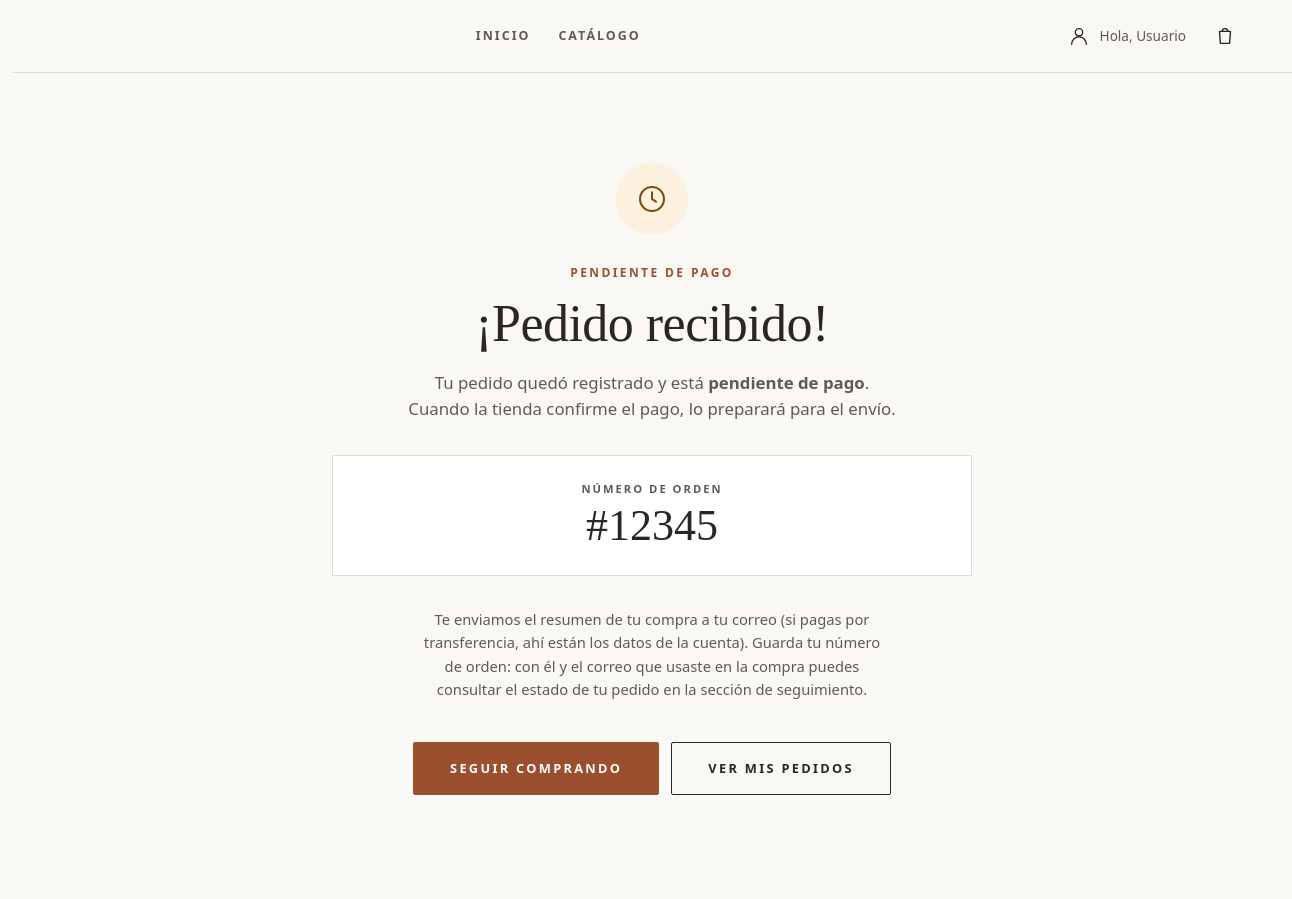
Test case: PedidoRecibido › debe llevar al usuario autenticado a sus pedidos
Step 1. Click the button "Ver mis pedidos" → (781, 768), box [671, 742, 891, 795]
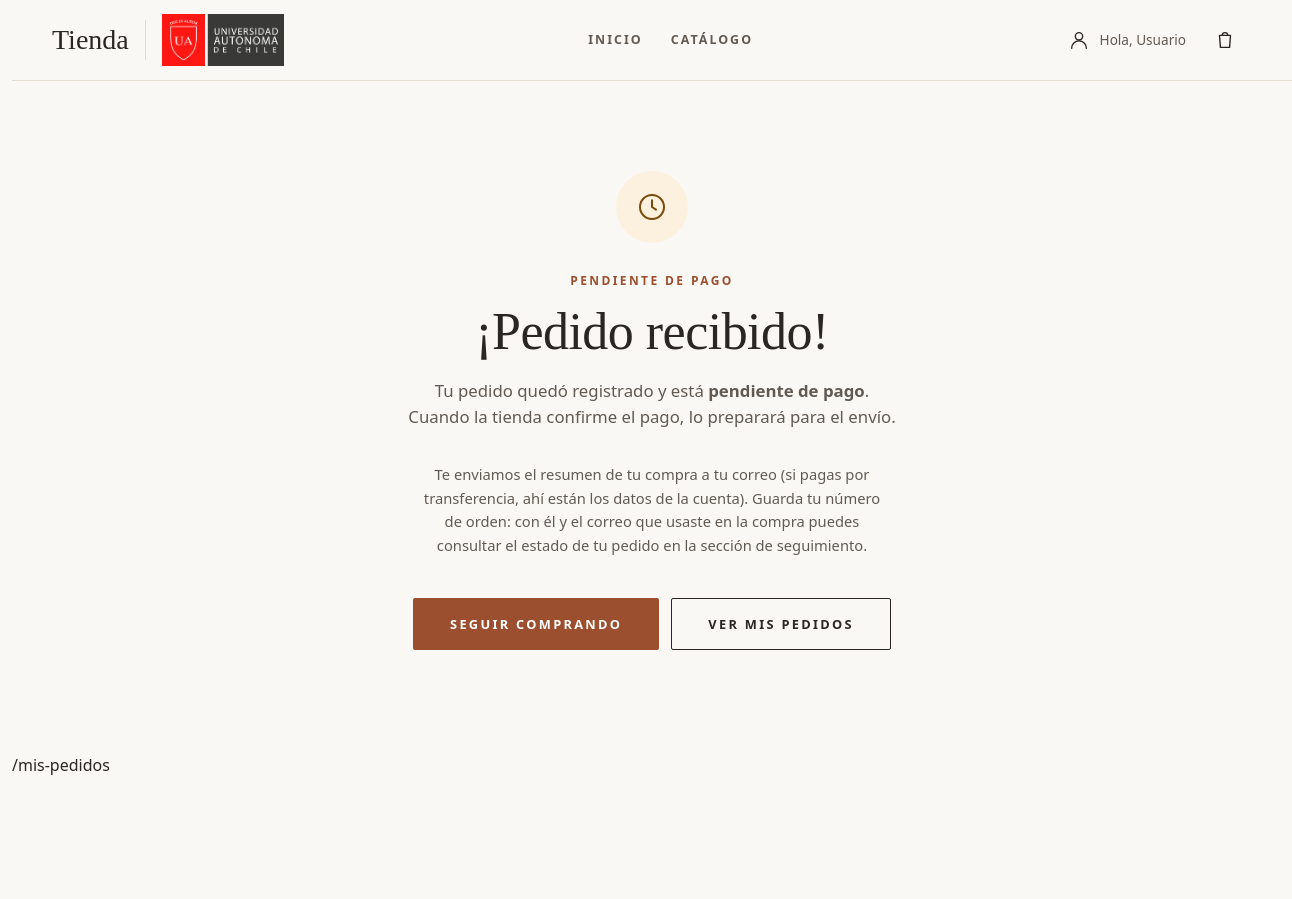
Check: the text with test id "location" reads "/mis-pedidos", box [12, 754, 110, 776]
